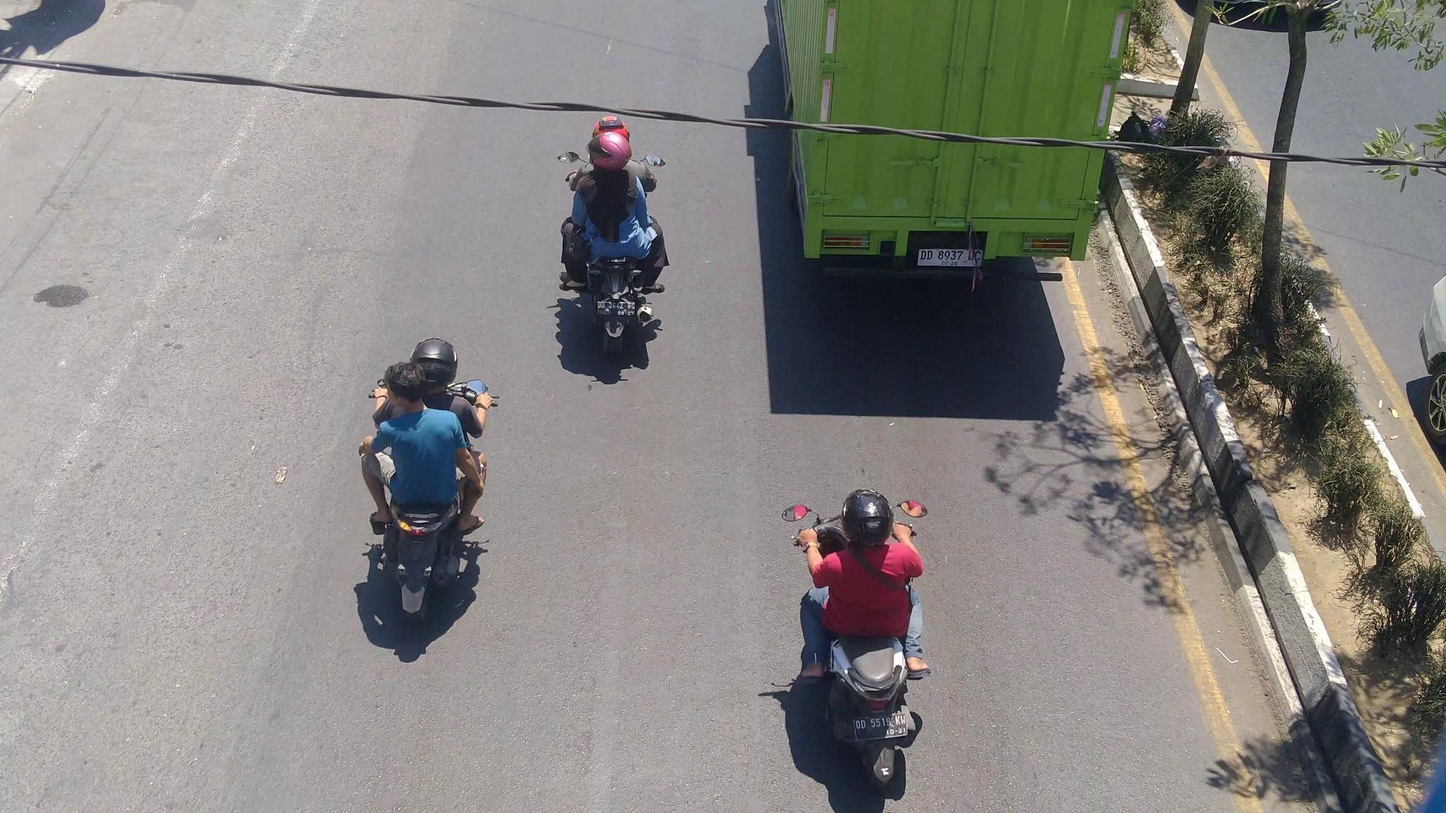Helmet: (839, 483, 900, 547), (407, 334, 463, 392), (585, 127, 634, 176)
bike: (776, 492, 932, 787), (355, 374, 492, 623), (551, 146, 677, 372)
no-helmet: (382, 358, 431, 418)
number-plate: (850, 715, 911, 741), (593, 298, 641, 322)
rider: (794, 484, 931, 690), (360, 363, 492, 535), (562, 134, 672, 295), (401, 338, 495, 436)
